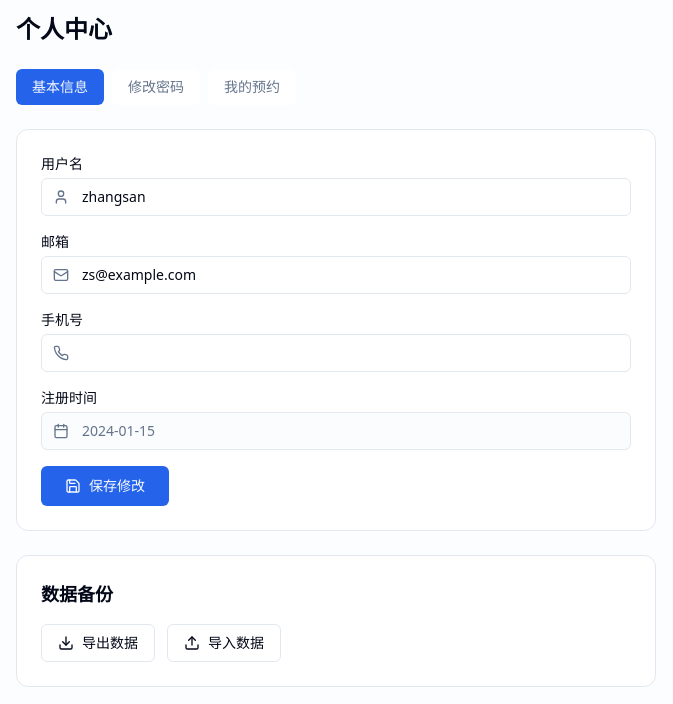
it: Profile Page › switches to appointments tab and shows appointment list
Click the button "我的预约": (252, 87) [208,69,296,105]
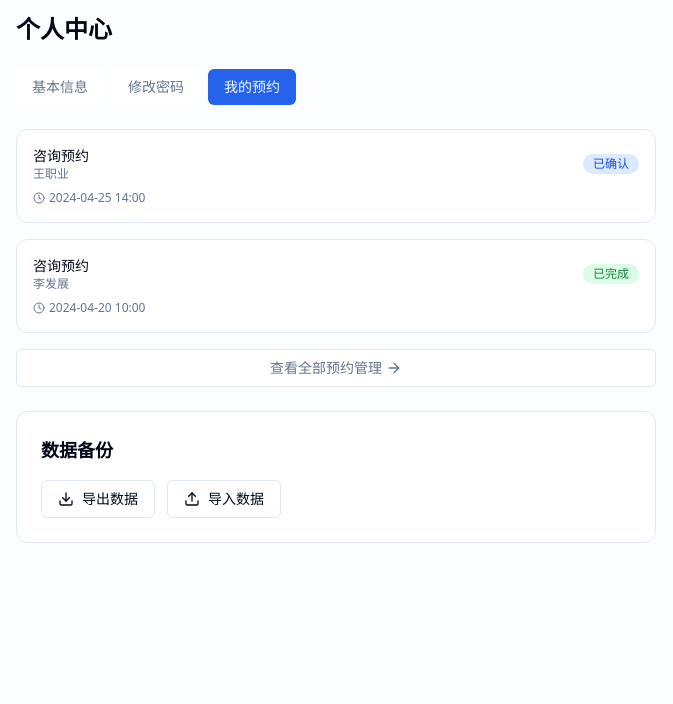
Check: the text "王职业" is shown, box [33,165,69,182]
Check: the text "李发展" is shown, box [33,275,69,292]
Check: the link "查看全部预约管理" is shown, box [16,349,656,387]
